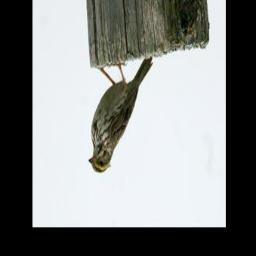Sparrow: (88, 54, 153, 174)
